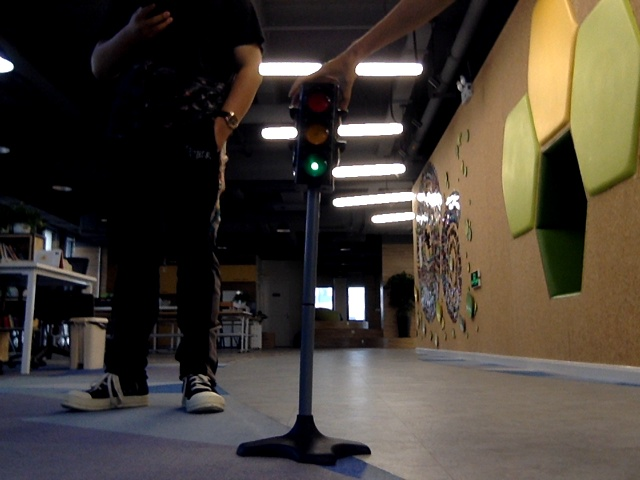green: (295, 90, 329, 185)
